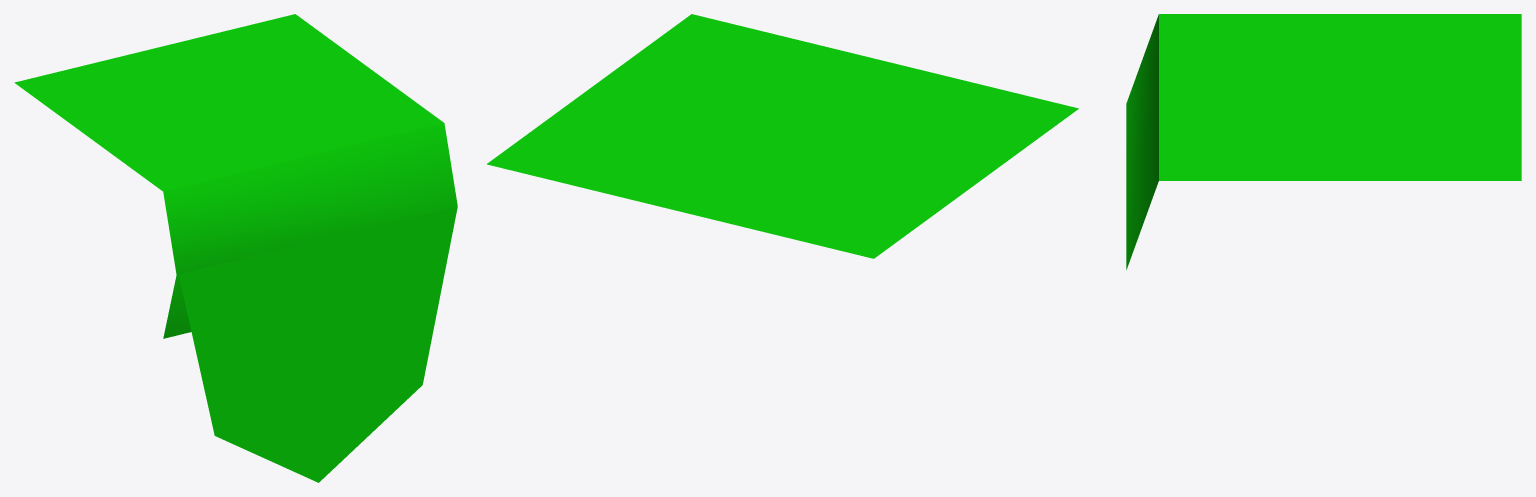
File: Orthogonal_TopFloor_002.glb
The picture shows the model from 3 angles, left to right: view 1: azimuth 30°, elevation 25°; view 2: azimuth 150°, elevation 25°; view 3: azimuth 270°, elevation 25°; orthographic projection. The views are drawn at different scales.
Visible parts, largest first — view 1: Orthogonal_TopFloor.002; view 2: Orthogonal_TopFloor.002; view 3: Orthogonal_TopFloor.002.
Boxes of the visible parts, left/top/right/bottom form: Orthogonal_TopFloor.002: left=14, top=14, right=457, bottom=482; Orthogonal_TopFloor.002: left=487, top=14, right=1078, bottom=258; Orthogonal_TopFloor.002: left=1126, top=14, right=1521, bottom=269.
Size of the model in its own units: 0.5 by 0.5371 by 0.5.
